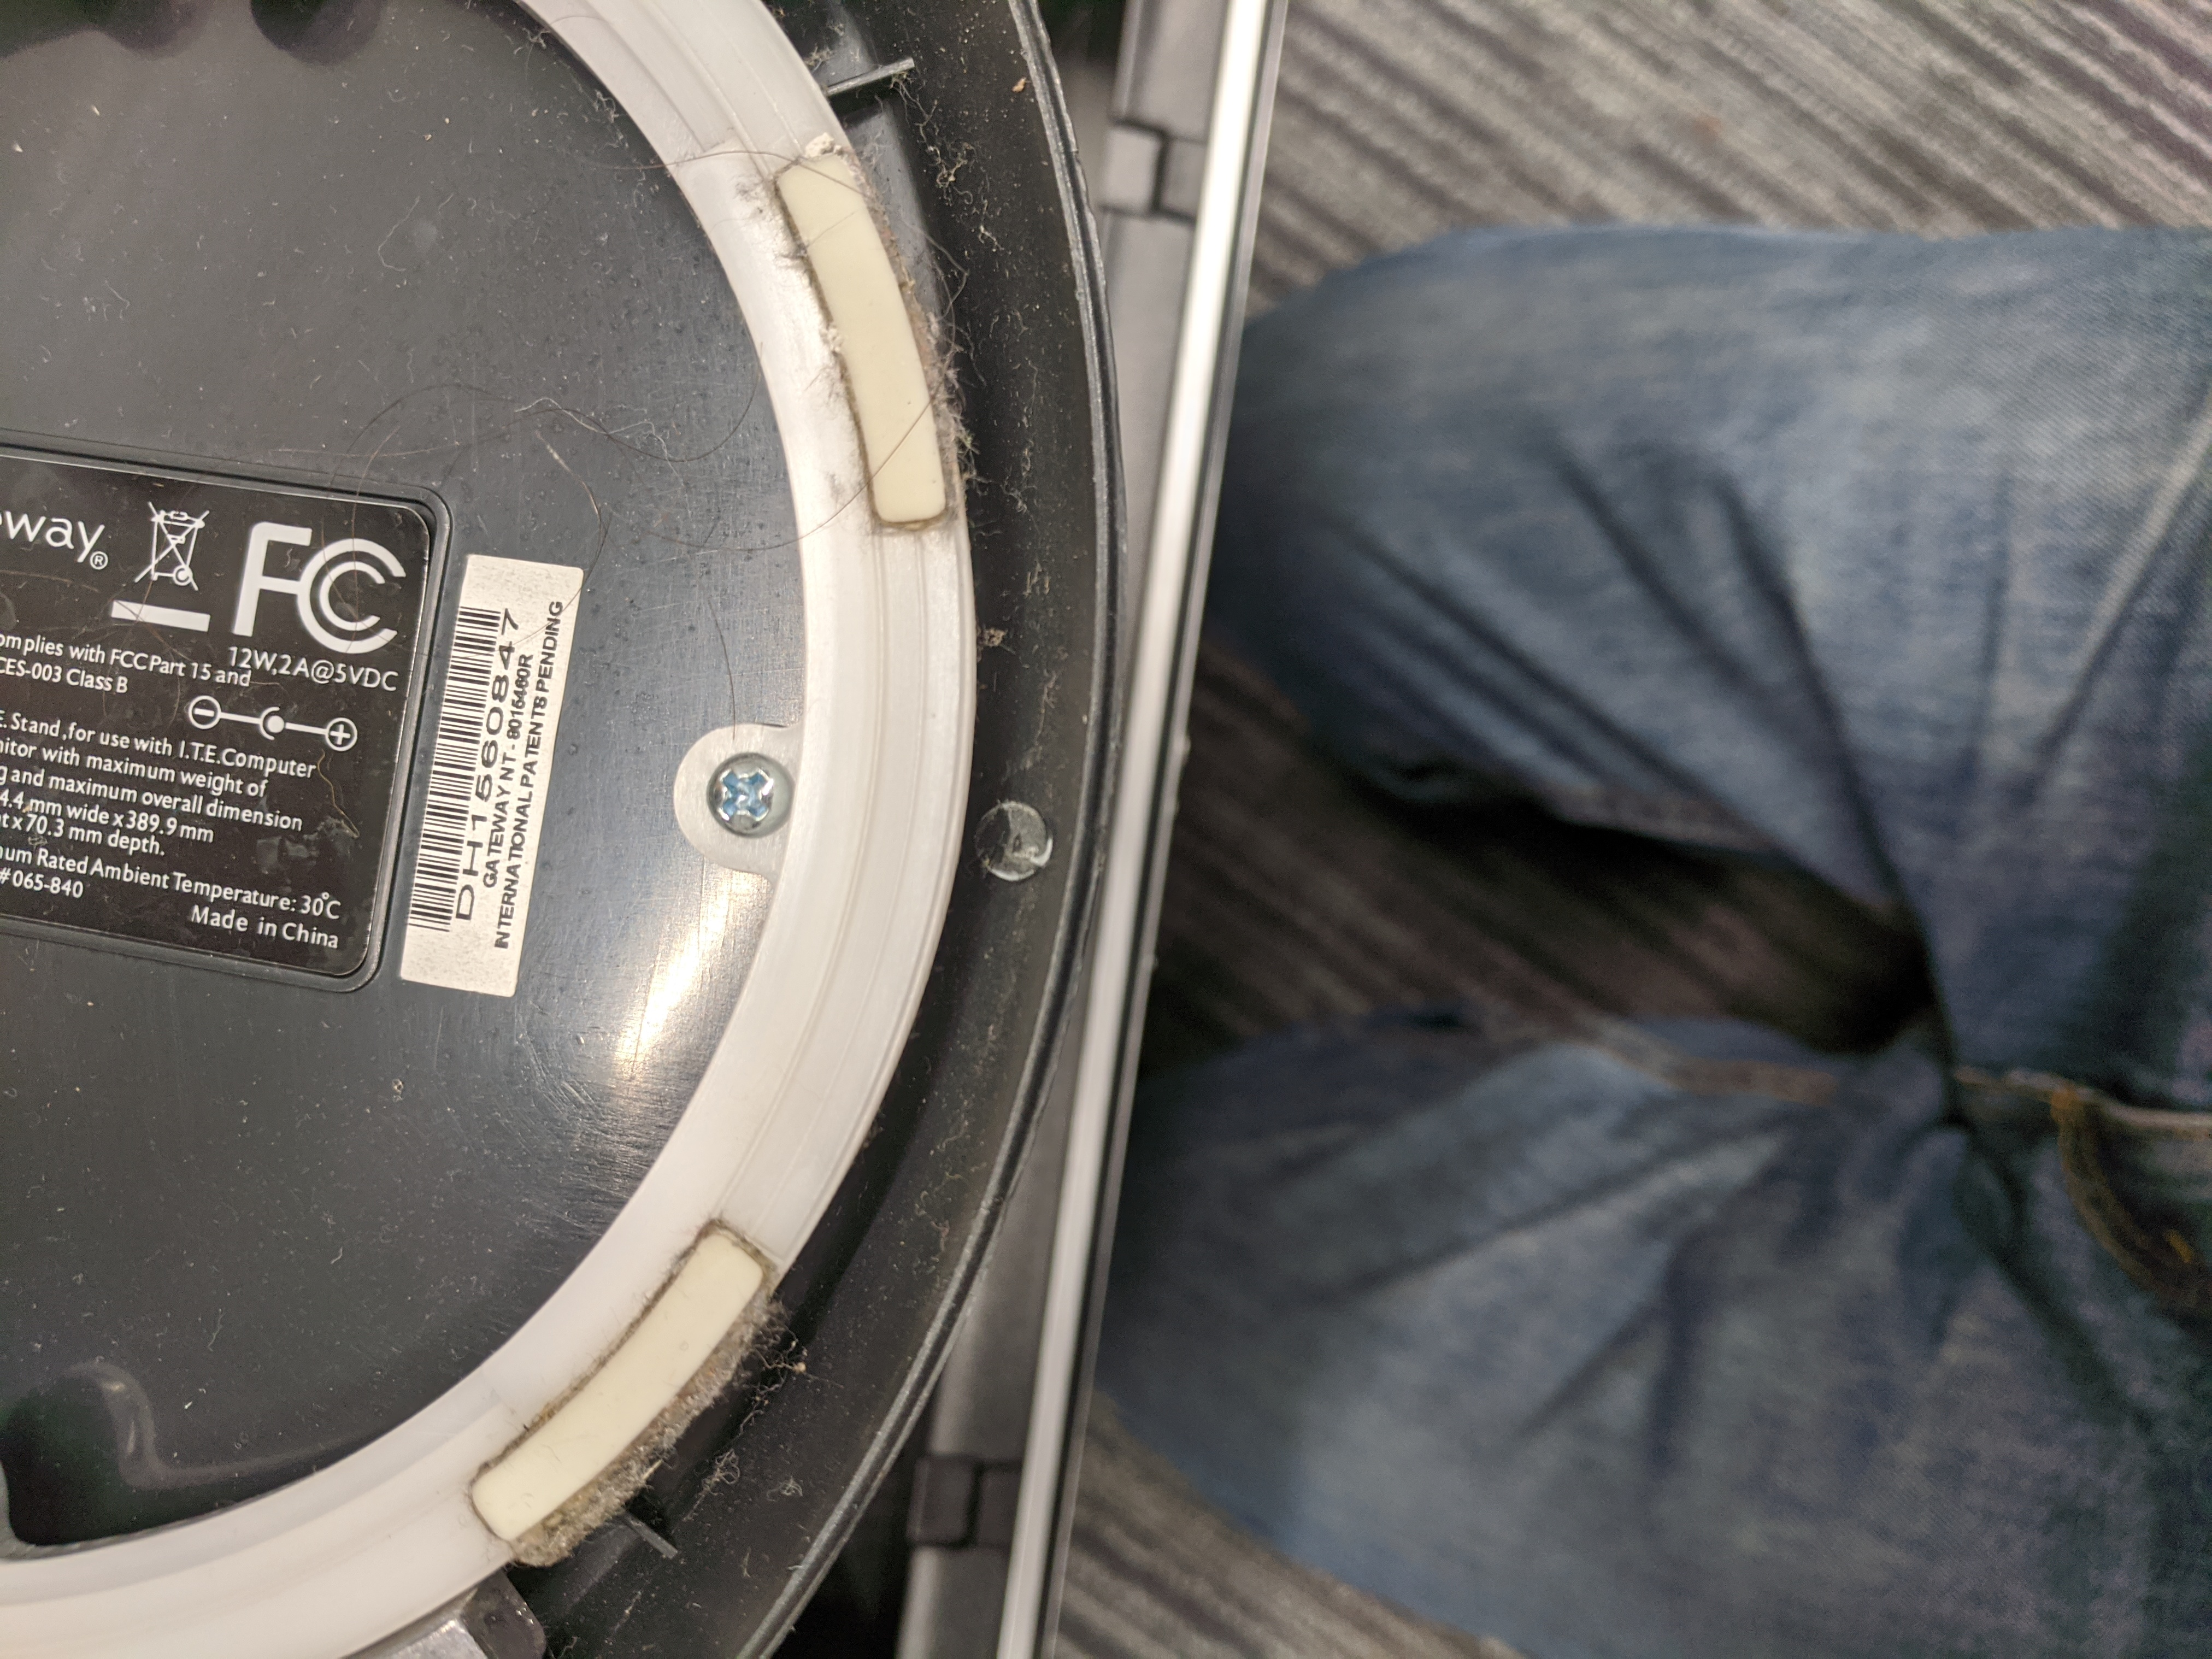cross_recessed_screw: (702, 742, 792, 840)
